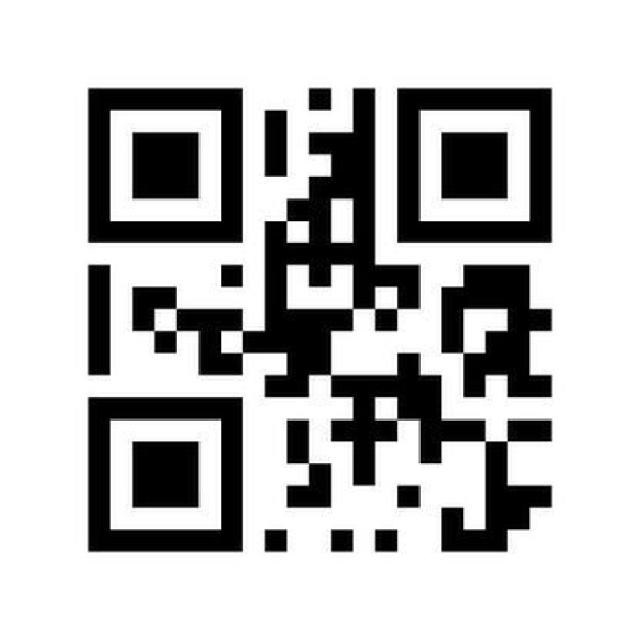QRCode: (76, 74, 581, 562)
